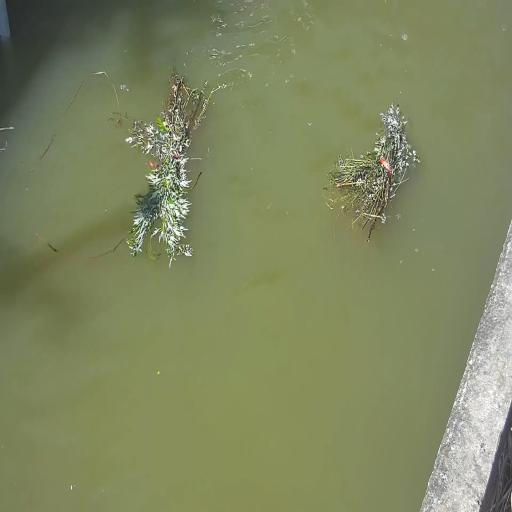twig: (123, 60, 216, 266), (326, 104, 418, 244)
